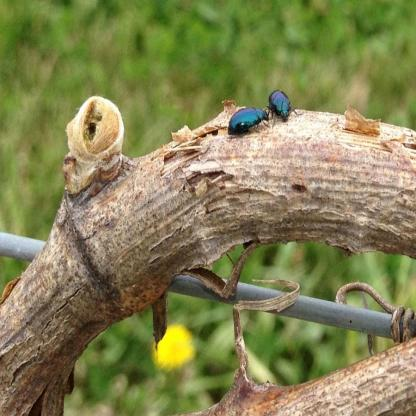beetle: (228, 106, 273, 136), (268, 88, 301, 119)
